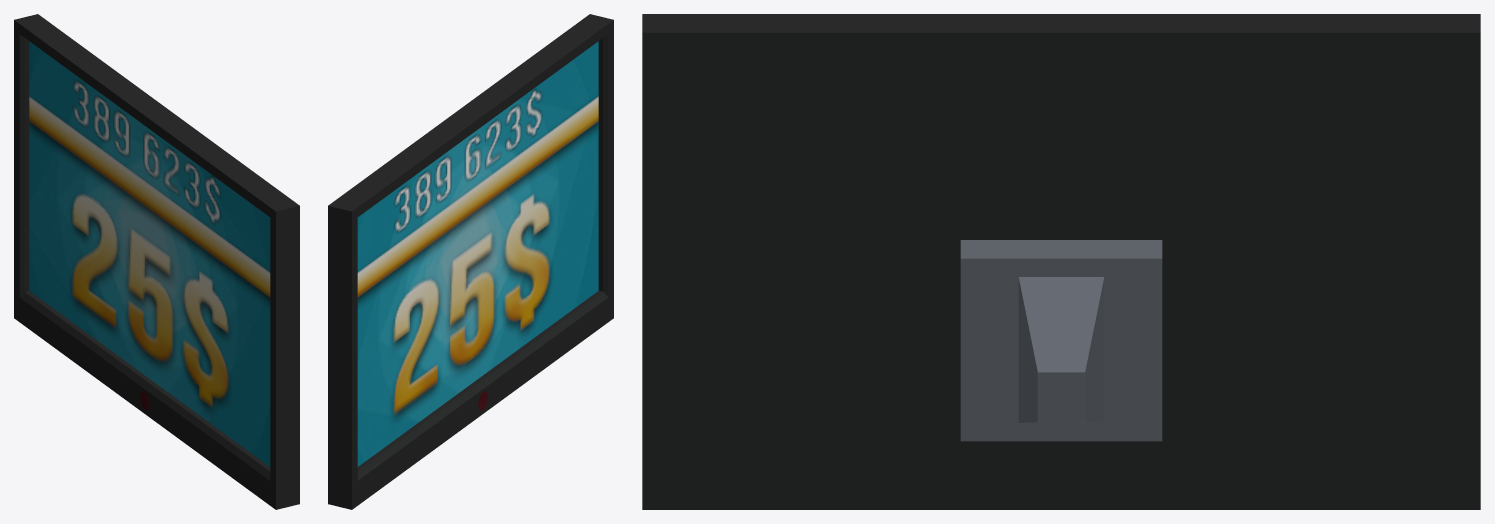
3 views of the same model, side by side, from view 1: azimuth 30°, elevation 25°; view 2: azimuth 150°, elevation 25°; view 3: azimuth 270°, elevation 25° (orthographic). The views are drawn at different scales.
Visible parts, largest first — view 1: TV.001; view 2: TV.001; view 3: TV.001, Cube.002.
Part boxes in pixels (left/top/right/bottom): TV.001: left=14, top=14, right=299, bottom=509; TV.001: left=328, top=14, right=613, bottom=509; TV.001: left=642, top=14, right=1480, bottom=509; Cube.002: left=960, top=240, right=1162, bottom=441.
Size of the model in its own units: 47.92 by 126 by 200.
